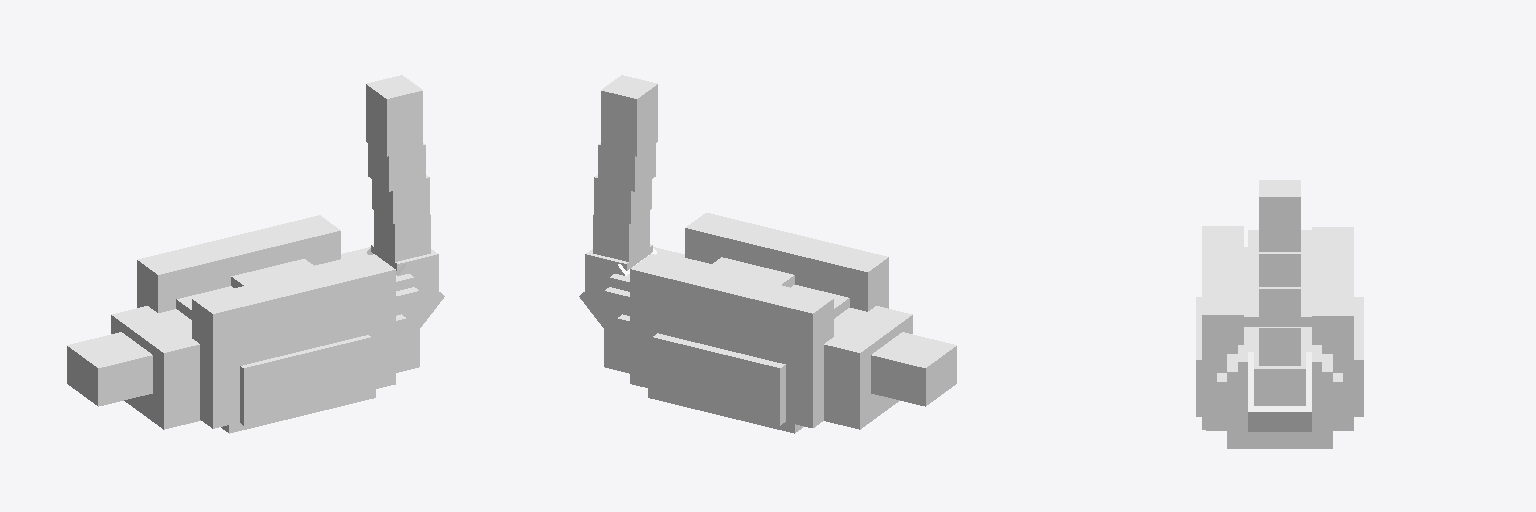
Rendered from swan_standing_body.obj.
3 views of the same model, side by side, from view 1: azimuth 30°, elevation 25°; view 2: azimuth 150°, elevation 25°; view 3: azimuth 270°, elevation 25° (orthographic).
Parts seen in each view (by area): view 1: Element #16, Element #14, Element #12, Element #13, Element #2, Element #7, Element #4, Element #6, Element #5, Element #19, Element #22, Element #18 (+3 smaller); view 2: Element #14, Element #16, Element #12, Element #13, Element #2, Element #7, Element #22, Element #4, Element #6, Element #5, Element #19, Element #18 (+4 smaller); view 3: Element #16, Element #14, Element #19, Element #7, Element #1, Element #30, Element #12, Element #5, Element #4, Element #6, Element #18, Element #20 (+2 smaller).
Part boxes in pixels (x1,y1,x2,y2): Element #16: (192,254,395,428); Element #14: (137,215,340,312); Element #12: (240,335,371,425); Element #13: (111,306,200,429); Element #2: (67,332,152,406); Element #7: (366,75,422,156); Element #4: (374,211,430,261); Element #6: (368,143,425,191); Element #5: (372,175,429,223); Element #19: (396,287,419,372); Element #22: (176,264,375,433); Element #18: (231,259,316,287); Element #14: (630,254,833,427); Element #16: (685,213,888,311); Element #12: (652,333,785,425); Element #13: (824,306,912,429); Element #2: (871,332,956,406); Element #7: (601,75,657,156); Element #22: (648,262,849,433); Element #4: (593,211,649,261); Element #6: (598,143,655,191); Element #5: (594,175,651,223); Element #19: (604,287,629,373); Element #18: (708,257,794,287); Element #16: (1202,226,1243,429); Element #14: (1312,227,1353,430); Element #19: (1227,354,1332,448); Element #7: (1259,180,1300,251); Element #1: (1248,352,1311,431); Element #30: (1254,348,1305,405); Element #12: (1196,297,1363,416); Element #5: (1259,287,1300,326); Element #4: (1259,327,1300,365); Element #6: (1259,252,1300,286); Element #18: (1244,282,1311,326); Element #20: (1217,373,1342,420).
Size of the model in its own units: 18.97 by 14.12 by 8.